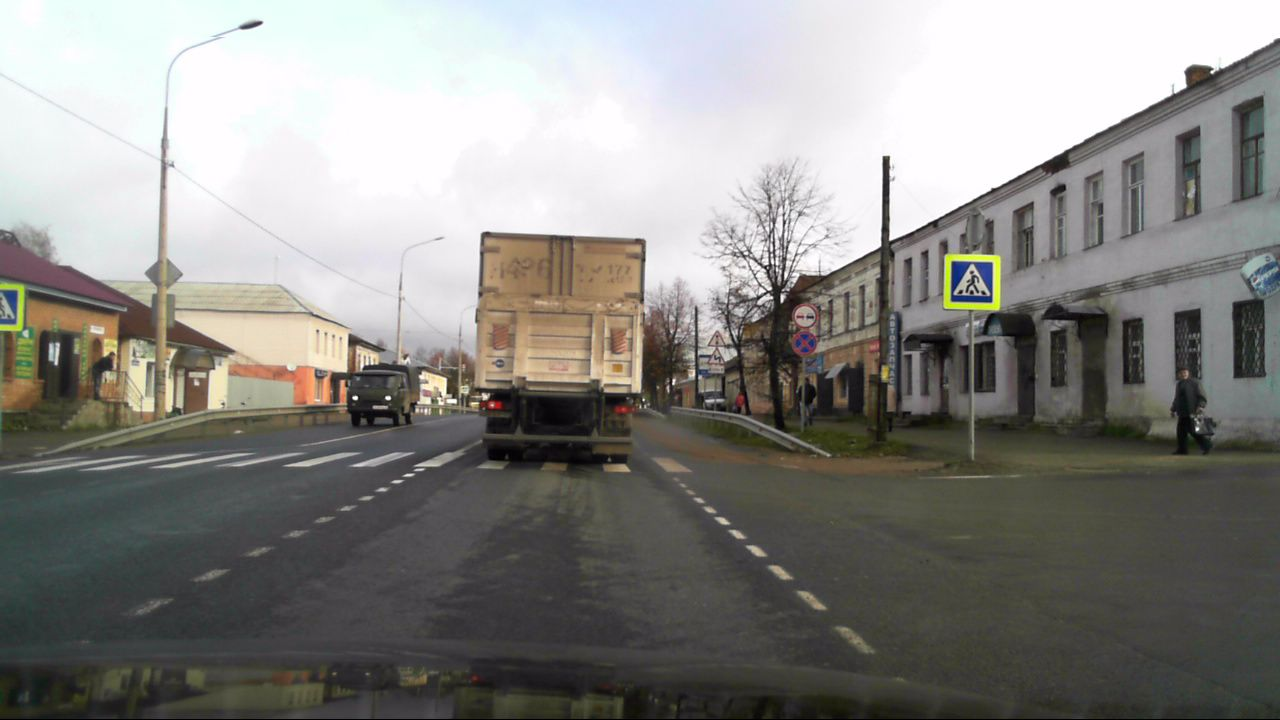No Parking: (791, 331, 816, 355)
